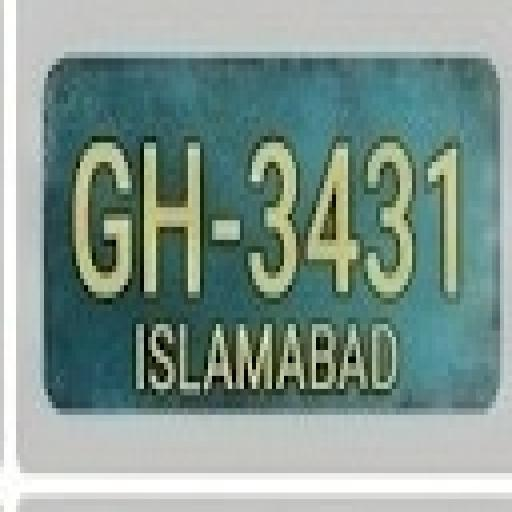1: (422, 144, 464, 302)
3: (364, 135, 416, 306), (248, 136, 298, 304)
4: (303, 130, 359, 302)
G: (76, 132, 133, 300)
H: (140, 129, 206, 307)
